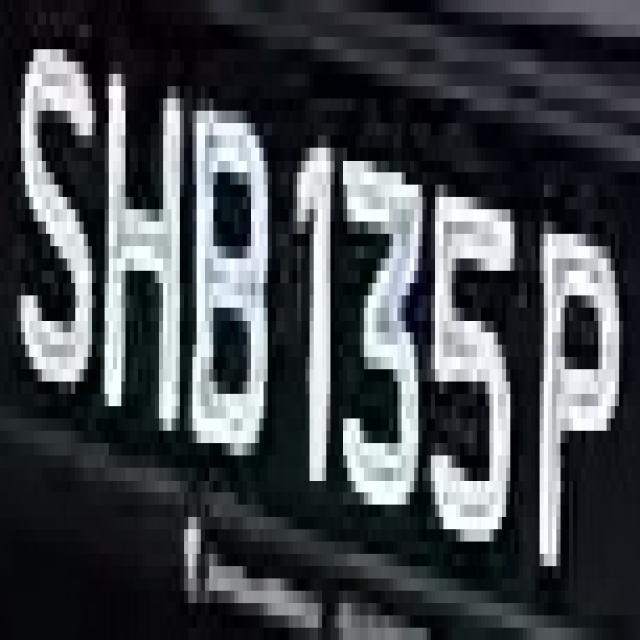1: (280, 110, 339, 542)
3: (339, 123, 422, 517)
5: (422, 98, 523, 591)
B: (184, 62, 268, 480)
H: (96, 62, 192, 456)
P: (527, 184, 623, 616)
S: (13, 37, 96, 406)
